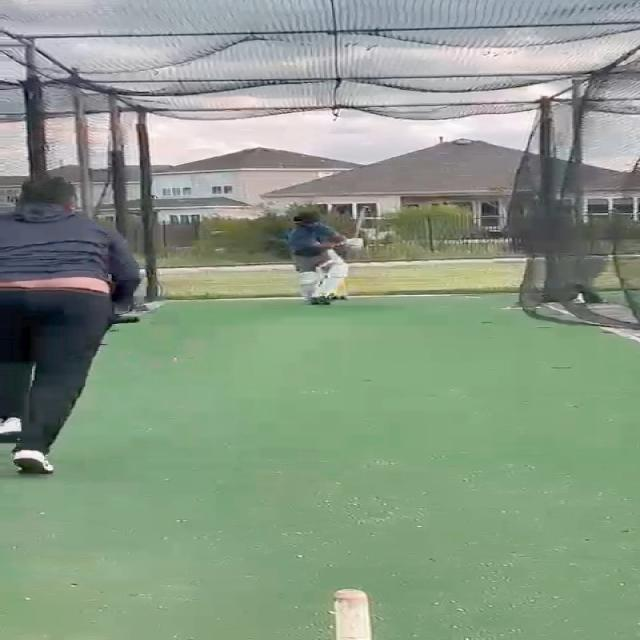batsman: (284, 206, 368, 306)
